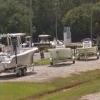Boat: (1, 26, 71, 72)
